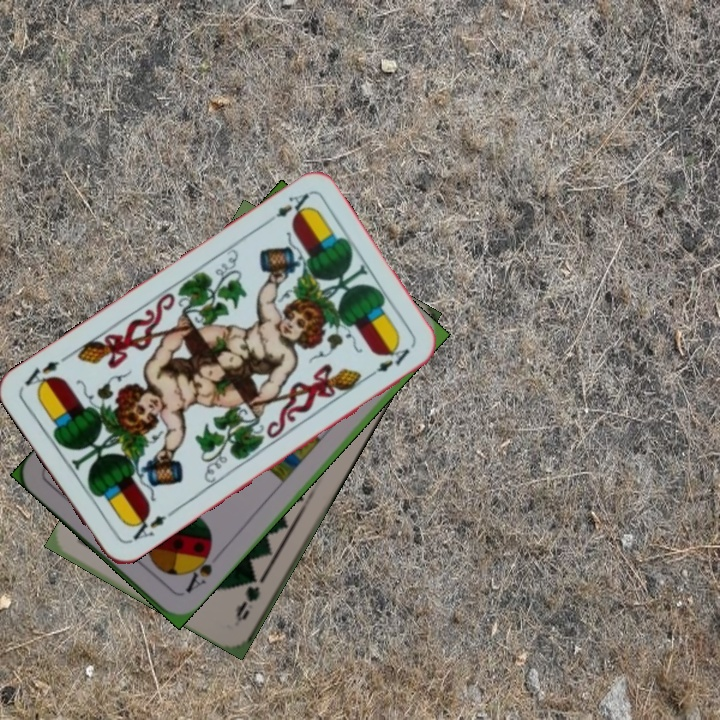EA: (124, 506, 177, 546), (260, 189, 312, 228)
G9: (230, 571, 268, 626)
SA: (181, 544, 215, 596)
